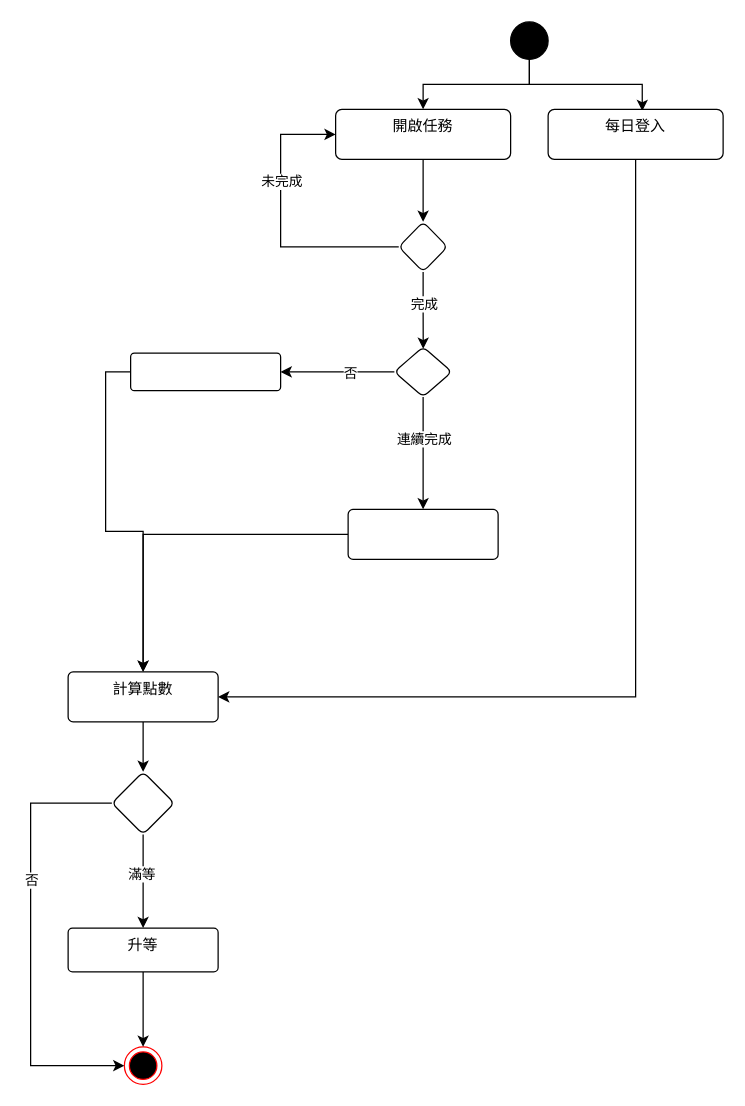
Image size: 745x1106. Some labels were removed from this diagram. Here are the shapes that lost their labels. From the top down, the centre of each, then its label:
At point 205,371: "發放一倍點數".
At point 422,533: "發放雙倍點數".
